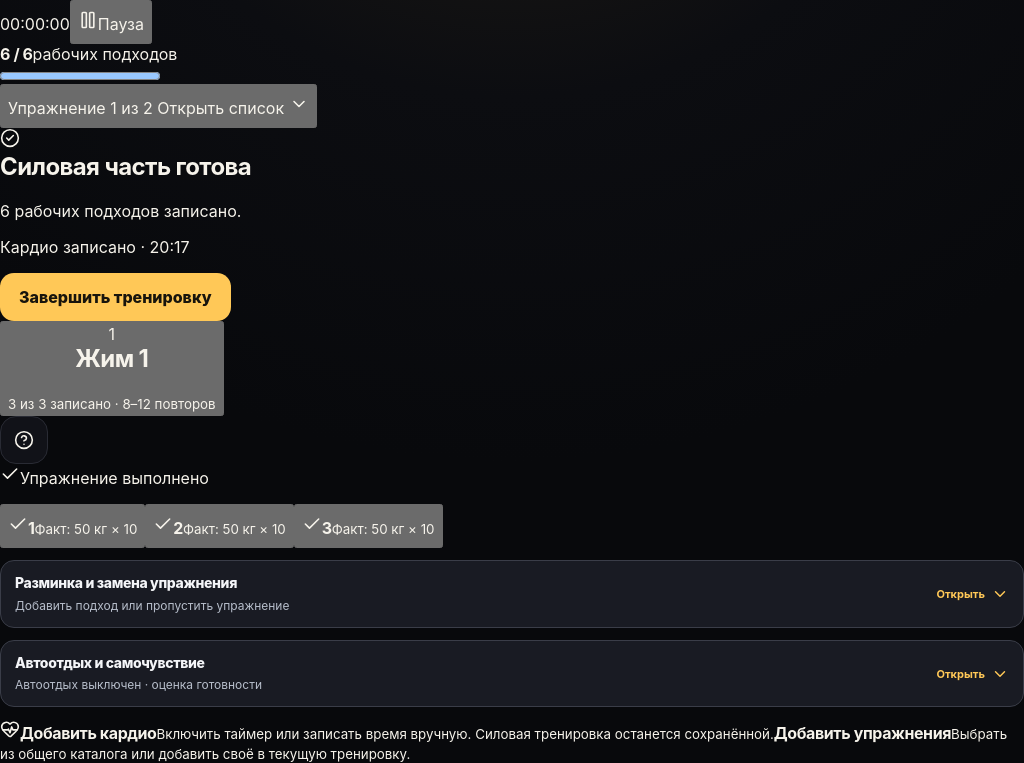
Test case: completion and timed-entry edge cases › changes the next main action to completion after saved associated cardio
The image size is (1024, 763).
(page scrolled)
Click the button "Завершить тренировку".
click(115, 297)  # box [0,273,231,321]
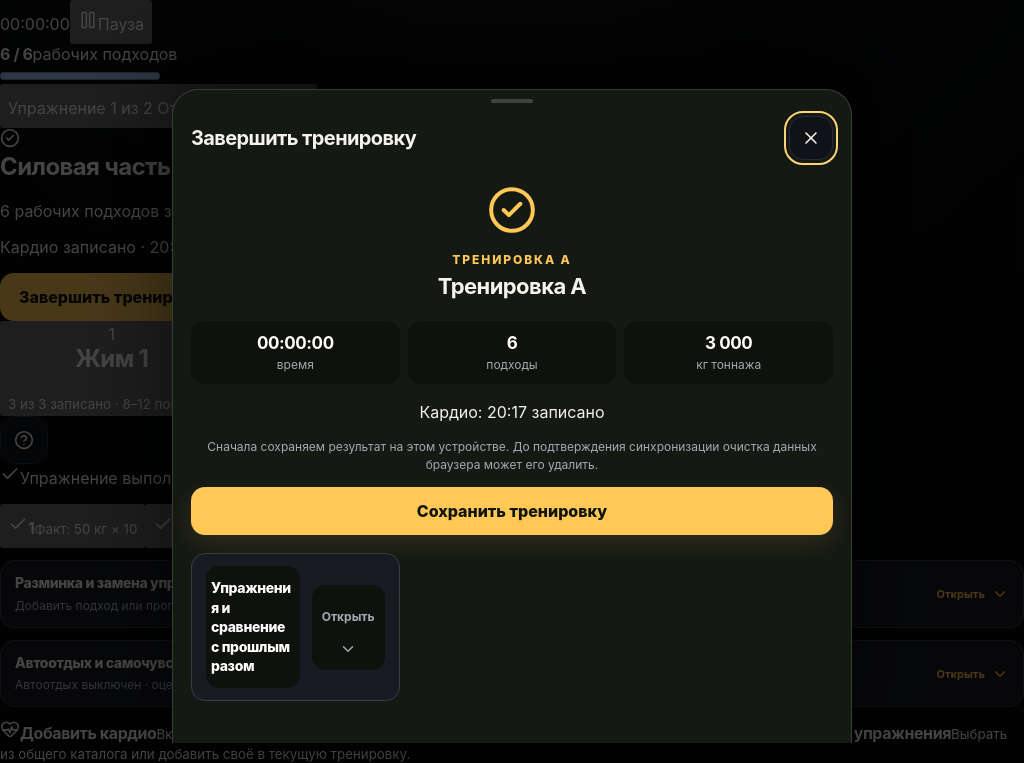
Click the text "Упражнения и сравнение с прошлым разом".
click(253, 627)  # box [211,578,295,676]
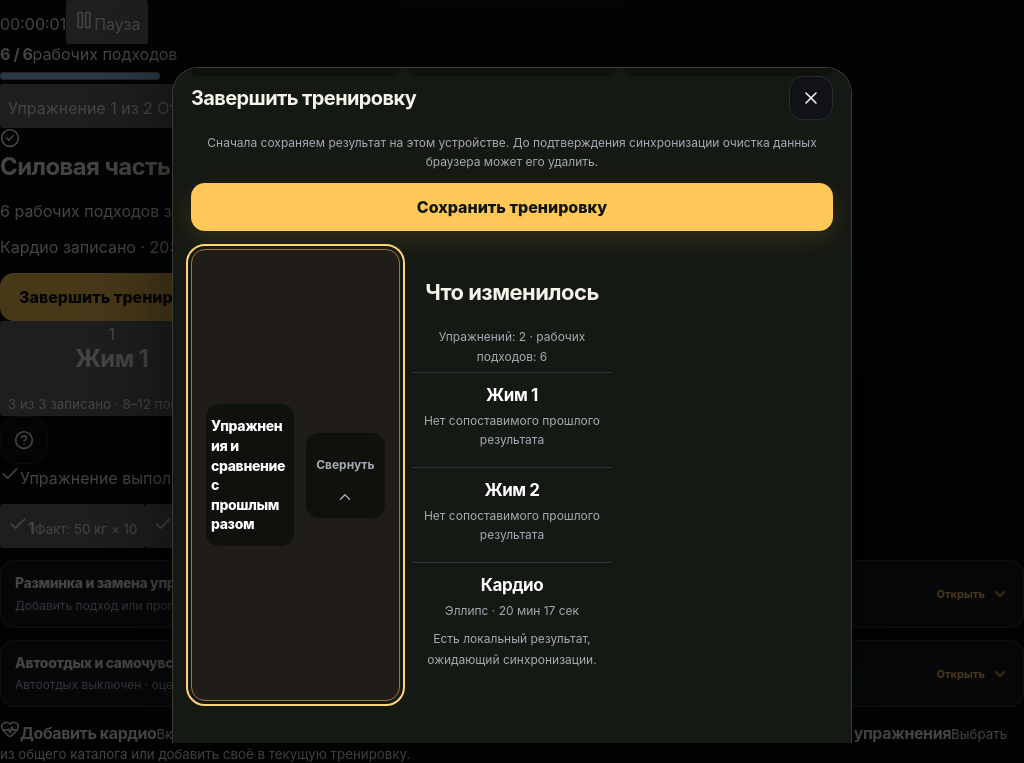
expect the element named "Итог силовой тренировки" shows "20 мин 17 сек": met, box [412,263,612,697]
